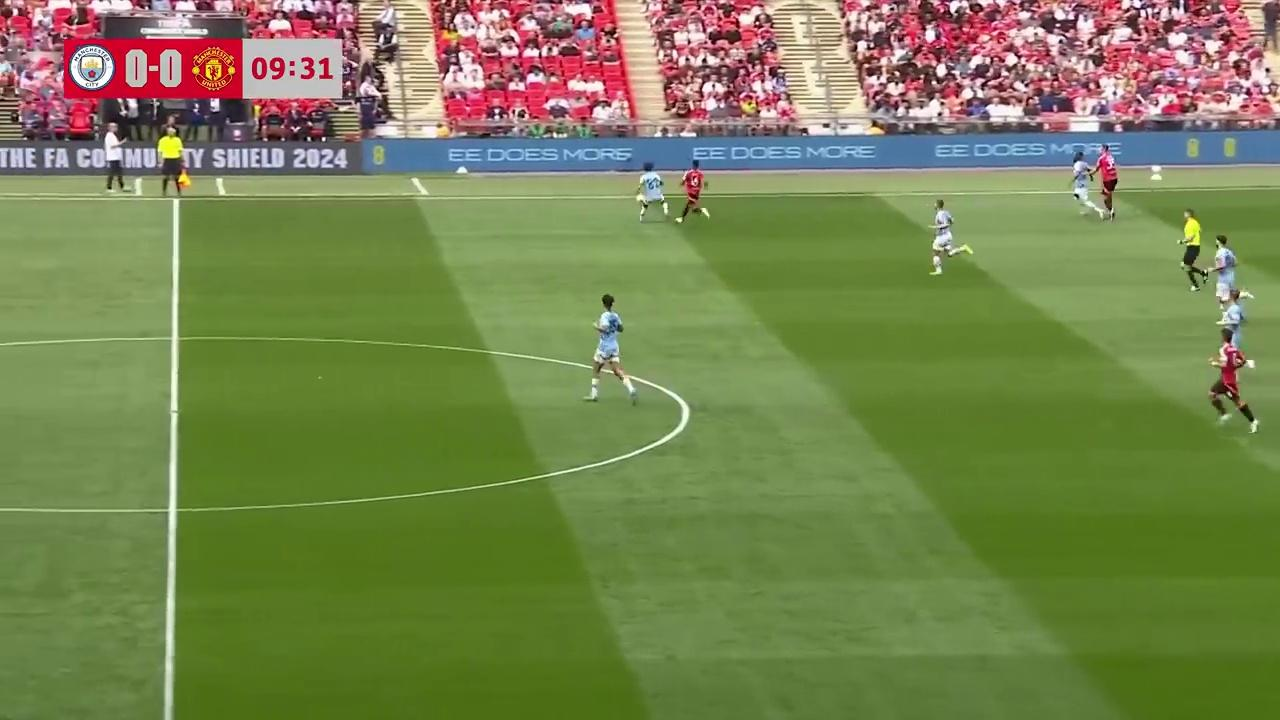ball: (637, 193, 645, 202)
player: (584, 294, 637, 404), (1207, 334, 1260, 431), (930, 199, 971, 274), (1214, 286, 1254, 352), (675, 161, 709, 223), (636, 163, 669, 220), (1211, 236, 1238, 305), (1093, 150, 1119, 221), (1070, 153, 1092, 208)
referee: (1178, 209, 1210, 291), (159, 121, 191, 198)
